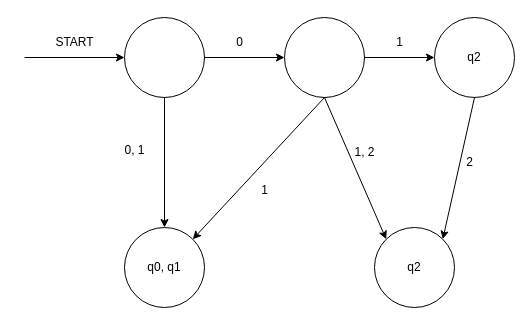
The diagram is 532 pixels wide and 325 high, and some of its shapes have lost their labels. Each missing label, with the centre of its shape:
"q0" goes at (164,57).
"q1" goes at (324,57).
